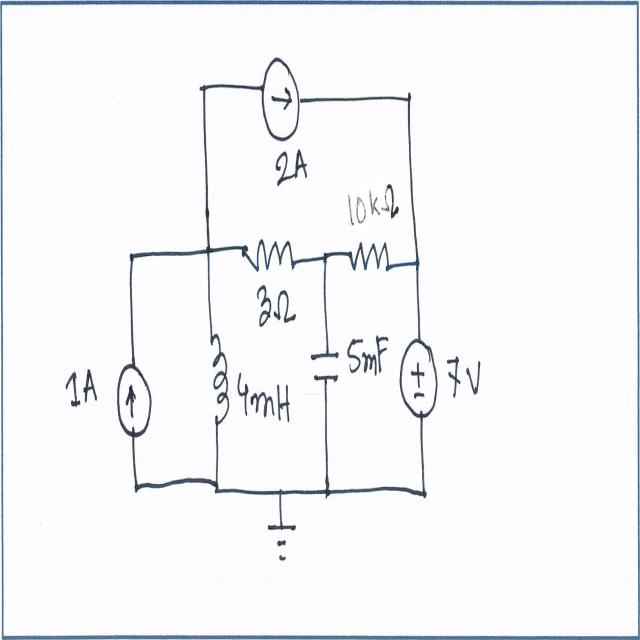capacitor: (309, 343, 340, 388)
current_source: (256, 45, 310, 148), (114, 357, 152, 446)
ground: (267, 515, 299, 572)
inductor: (208, 323, 233, 432)
resistor: (240, 233, 298, 282), (342, 233, 392, 281)
voltage_source: (398, 333, 442, 425)
